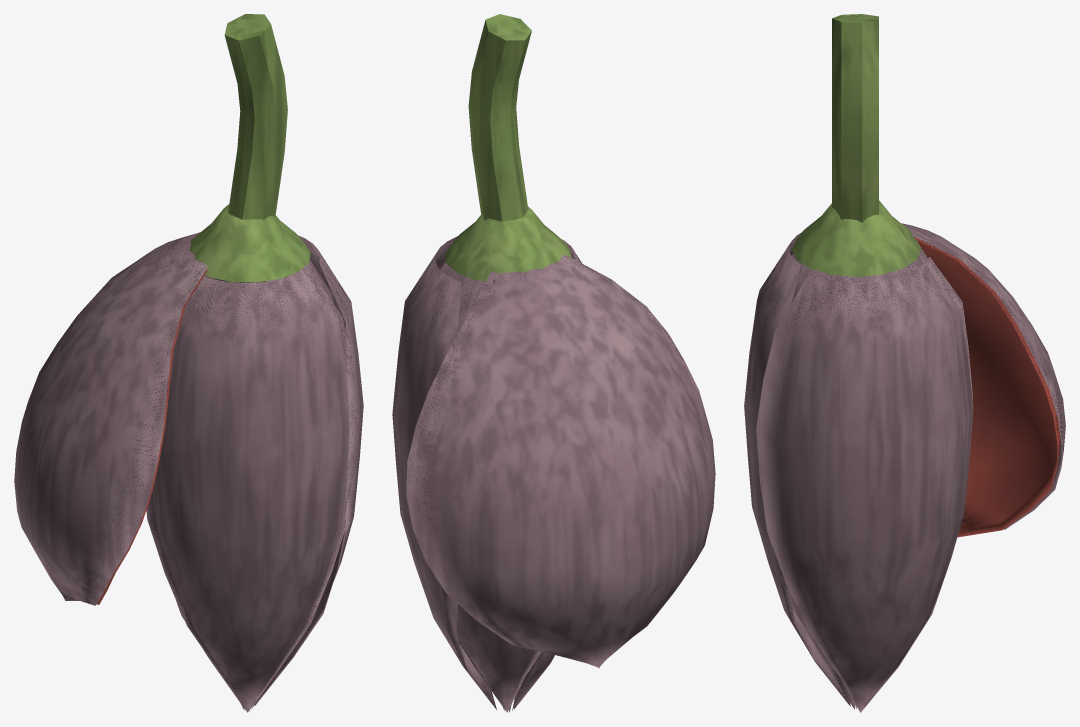
File: BananaBlossom.fbx
The picture shows the model from 3 angles, left to right: view 1: azimuth 30°, elevation 25°; view 2: azimuth 150°, elevation 25°; view 3: azimuth 270°, elevation 25°; orthographic projection.
Parts seen in each view (by area): view 1: BananaBlossom; view 2: BananaBlossom; view 3: BananaBlossom.
Boxes of the visible parts, x1,y1,x2,y2 form: BananaBlossom: [14, 14, 363, 712]; BananaBlossom: [392, 14, 715, 712]; BananaBlossom: [744, 14, 1065, 712].
Size of the model in its own units: 50.8 by 113 by 47.33.
1 material, 1 textured.
